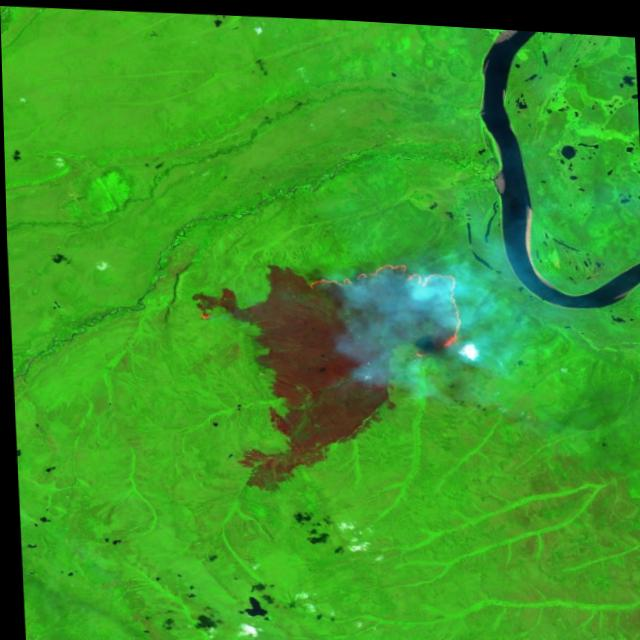fire: (294, 249, 470, 358)
